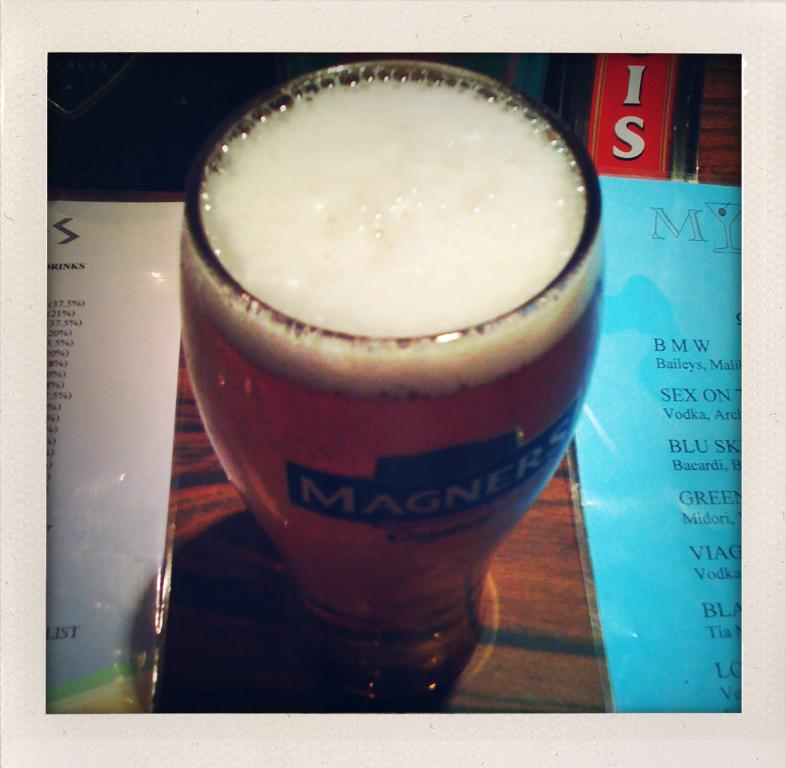Beer: (180, 74, 605, 684)
